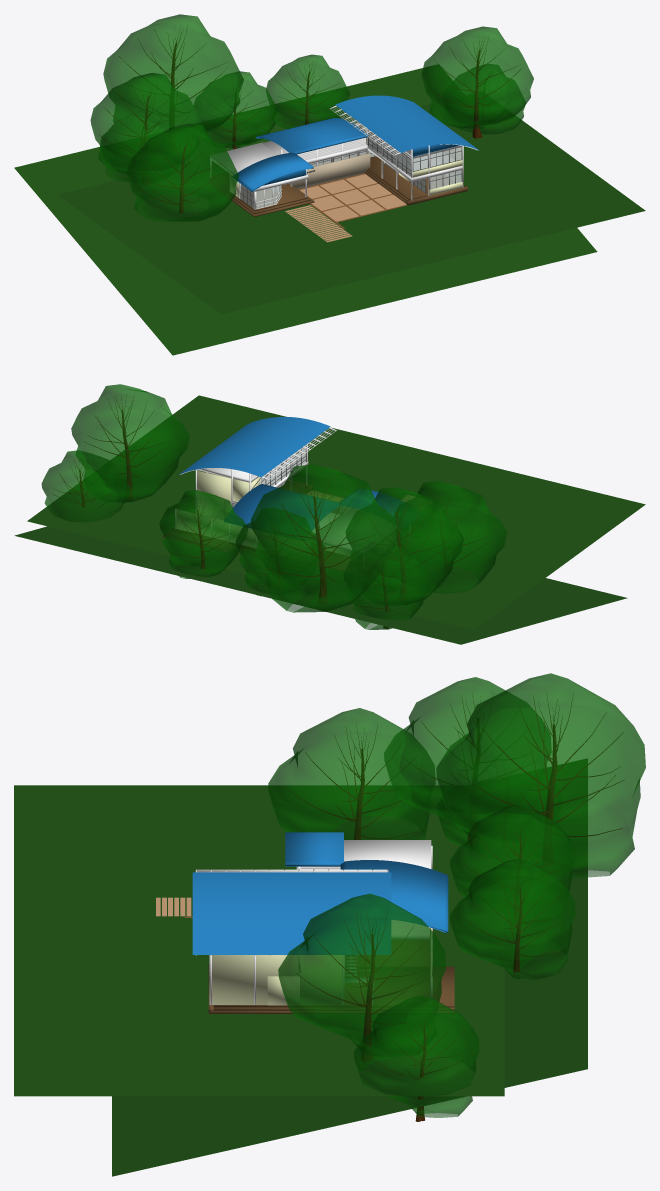
File: mini-library.obj
The picture shows the model from 3 angles, top to bottom: view 1: azimuth 30°, elevation 25°; view 2: azimuth 150°, elevation 25°; view 3: azimuth 270°, elevation 25°; orthographic projection. The views are drawn at different scales.
Parts seen in each view (by area): view 1: grass, grass01, Foliage13, Foliage04, Foliage14, Foliage02, Foliage09, Foliage11, roof, Foliage12, GROUND, Foliage10 (+8 smaller); view 2: grass, Foliage13, grass01, Foliage04, Foliage02, Foliage14, Foliage11, Foliage09, Foliage10, Foliage12, roof, rafter20 (+6 smaller); view 3: grass, Foliage13, grass01, Foliage04, Foliage14, Foliage02, roof, Foliage11, Foliage12, Foliage09, library_wall_back, rafter20 (+7 smaller).
Boxes of the visible parts, x1,y1,x2,y2 form: grass: (58,101,645,314); grass01: (14,64,597,355); Foliage13: (103,14,243,135); Foliage04: (421,26,533,138); Foliage14: (127,123,239,221); Foliage02: (90,73,202,184); Foliage09: (194,71,277,149); Foliage11: (266,54,349,128); roof: (335,95,479,152); Foliage12: (442,64,525,134); GROUND: (300,174,406,221); Foliage10: (99,110,178,182); grass: (27,395,645,630); Foliage13: (250,464,398,612); grass01: (14,526,627,644); Foliage04: (71,384,189,502); Foliage02: (346,487,463,605); Foliage14: (393,481,506,593); Foliage11: (159,490,247,578); Foliage09: (235,508,323,596); Foliage10: (343,541,431,629); Foliage12: (41,450,129,522); roof: (179,417,330,477); rafter20: (224,484,339,530); grass: (14,785,504,1096); Foliage13: (436,673,645,877); grass01: (112,758,587,1176); Foliage04: (278,893,445,1061); Foliage14: (268,708,435,839); Foliage02: (384,677,551,840); roof: (192,872,391,954); Foliage11: (450,858,575,980); Foliage12: (354,995,479,1121); Foliage09: (450,804,575,923); library_wall_back: (212,955,341,1004); rafter20: (340,860,448,933).
Size of the model in its own units: 2499 by 1011 by 2029.
